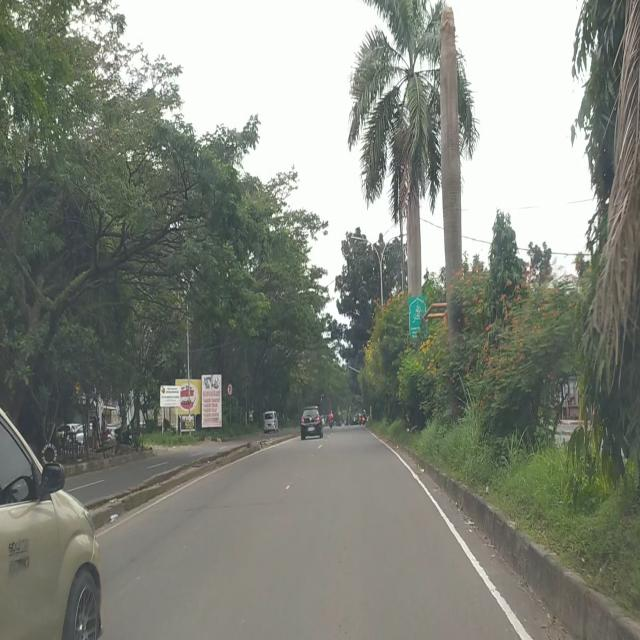Sewer Cover: (185, 503, 275, 512)
